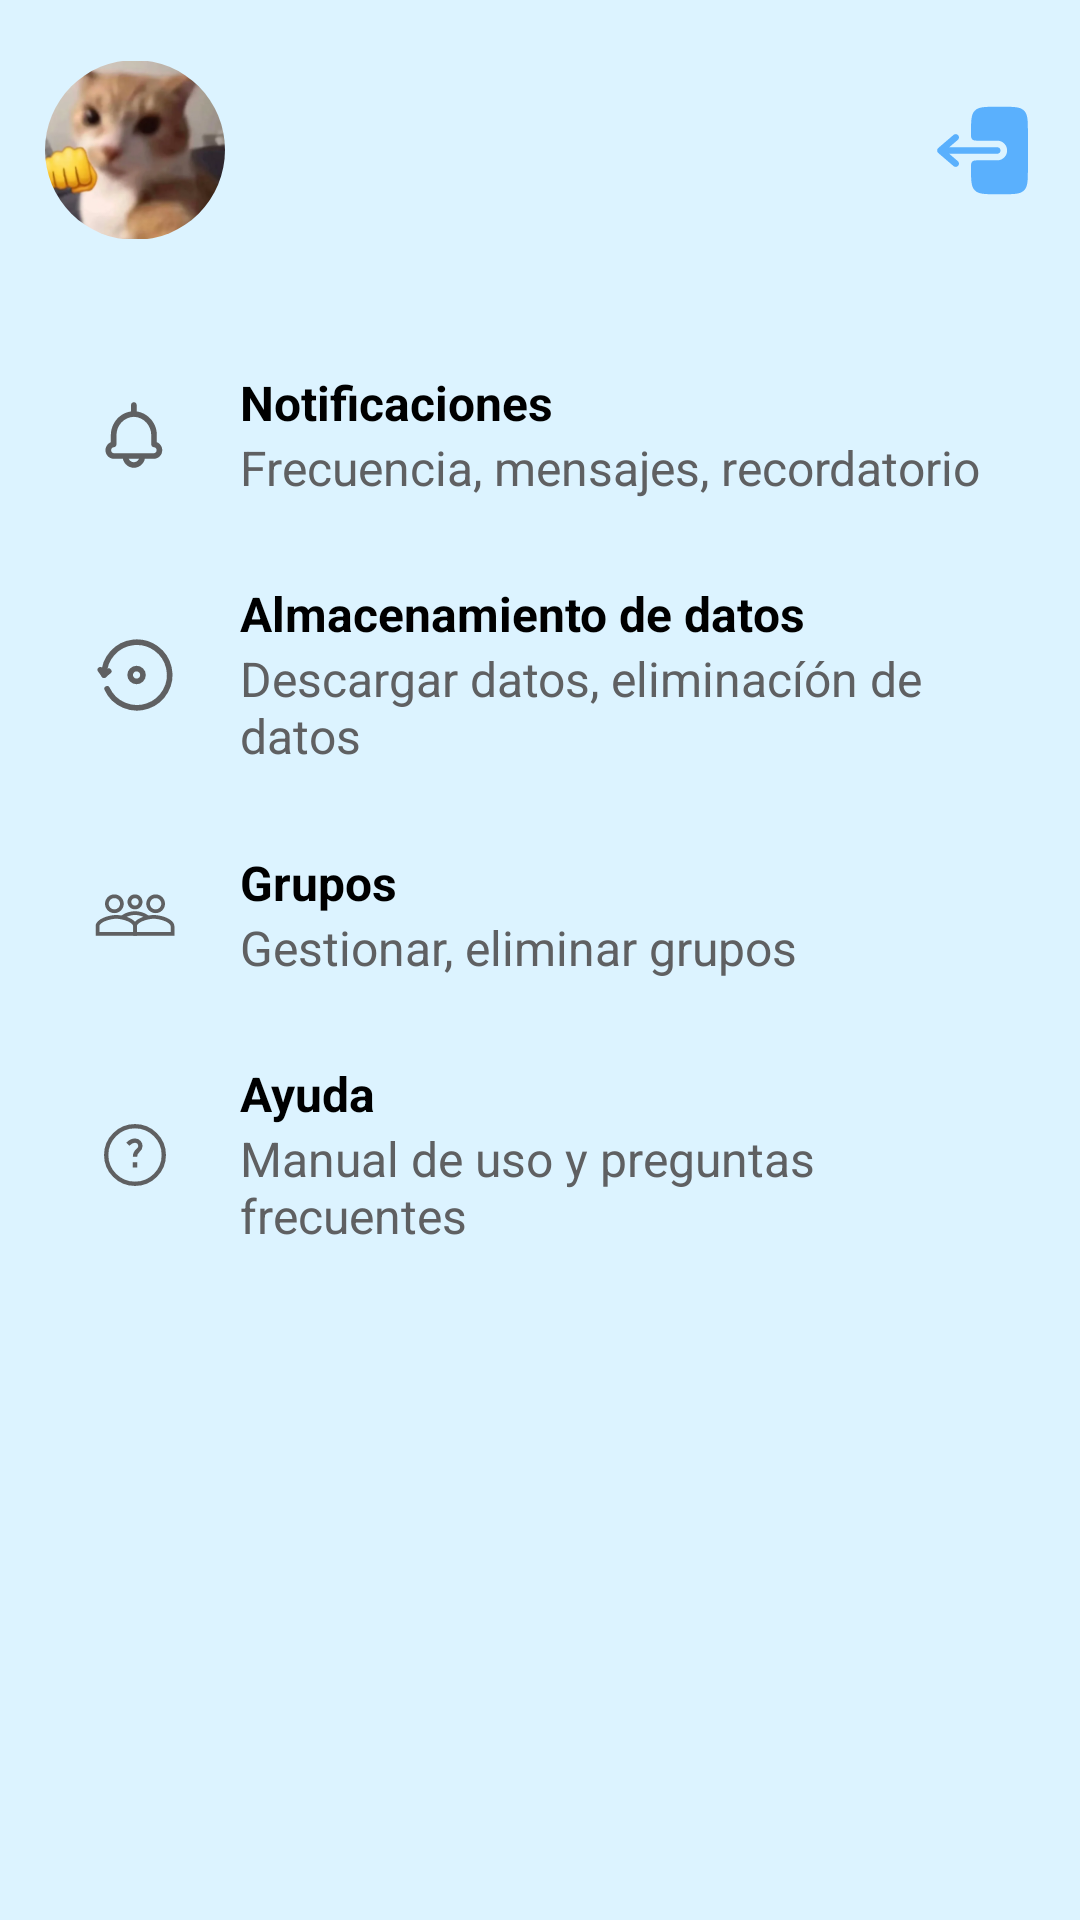

Screen size 1080x1920. Icon name, then its box in pixels as (x1, y1, x2, y2):
gato user: (45, 61, 225, 239)
groups: (95, 894, 175, 936)
help circle: (104, 1124, 166, 1186)
notification: (105, 402, 163, 468)
